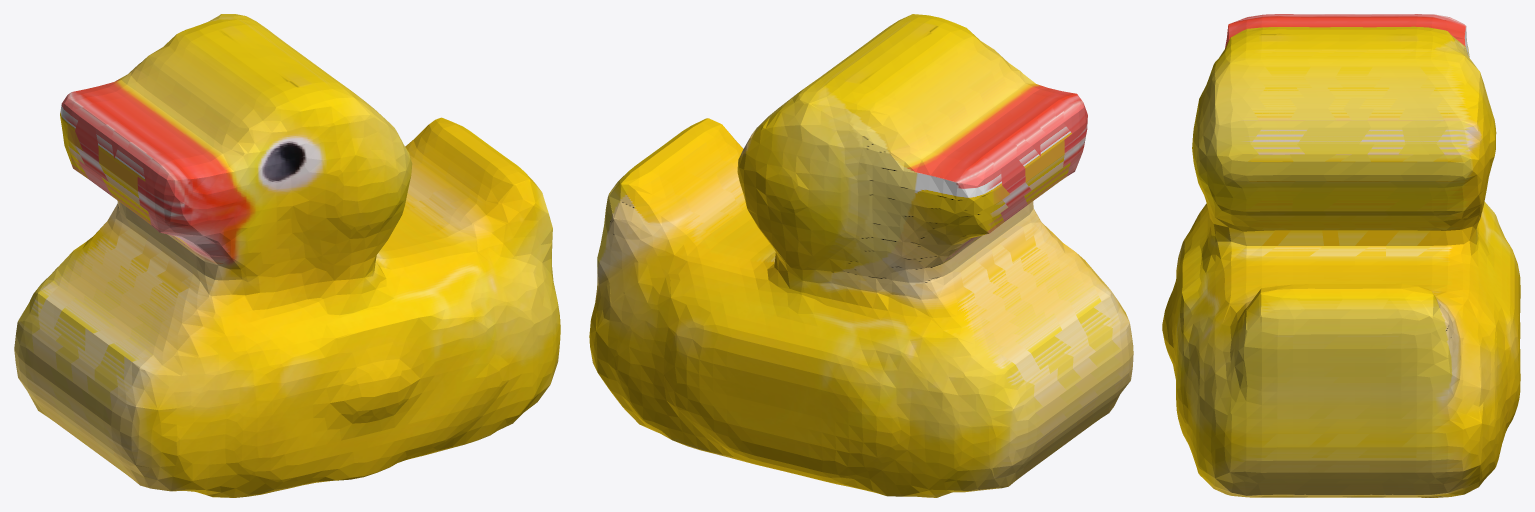
Rendered from rubber-duck.glb.
The picture shows the model from 3 angles, left to right: view 1: azimuth 30°, elevation 25°; view 2: azimuth 150°, elevation 25°; view 3: azimuth 270°, elevation 25°; orthographic projection.
Parts seen in each view (by area): view 1: model; view 2: model; view 3: model.
Boxes of the visible parts, x1,y1,x2,y2 form: model: [14, 14, 560, 497]; model: [589, 14, 1133, 497]; model: [1162, 14, 1520, 497].
Size of the model in its own units: 1 by 0.8149 by 0.7139.
1 material, 1 textured.
